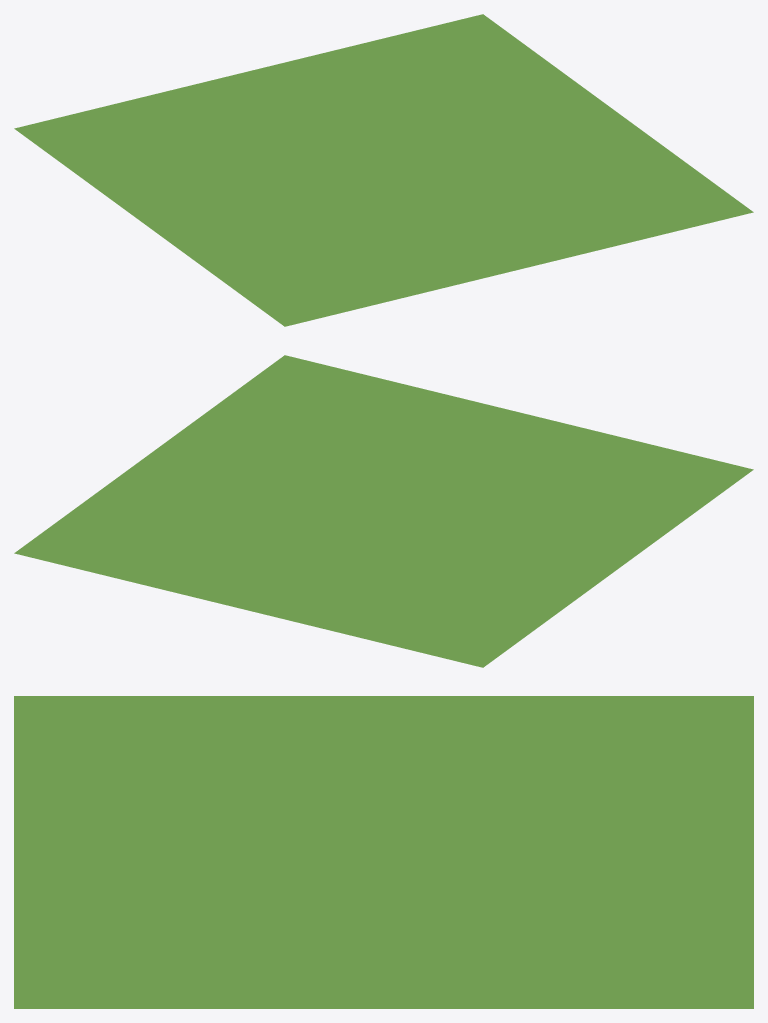
Rendered from groundTileCenter.glb.
The picture shows the model from 3 angles, top to bottom: view 1: azimuth 30°, elevation 25°; view 2: azimuth 150°, elevation 25°; view 3: azimuth 270°, elevation 25°; orthographic projection. The views are drawn at different scales.
Parts seen in each view (by area): view 1: groundTileCenter; view 2: groundTileCenter; view 3: groundTileCenter.
Boxes of the visible parts, <box> form: groundTileCenter: <box>14,14,753,326</box>; groundTileCenter: <box>14,355,753,667</box>; groundTileCenter: <box>14,696,753,1008</box>.
Size of the model in its own units: 1.03 by 4.77e-07 by 1.03.
Materials: 1 (1 with a texture image).
